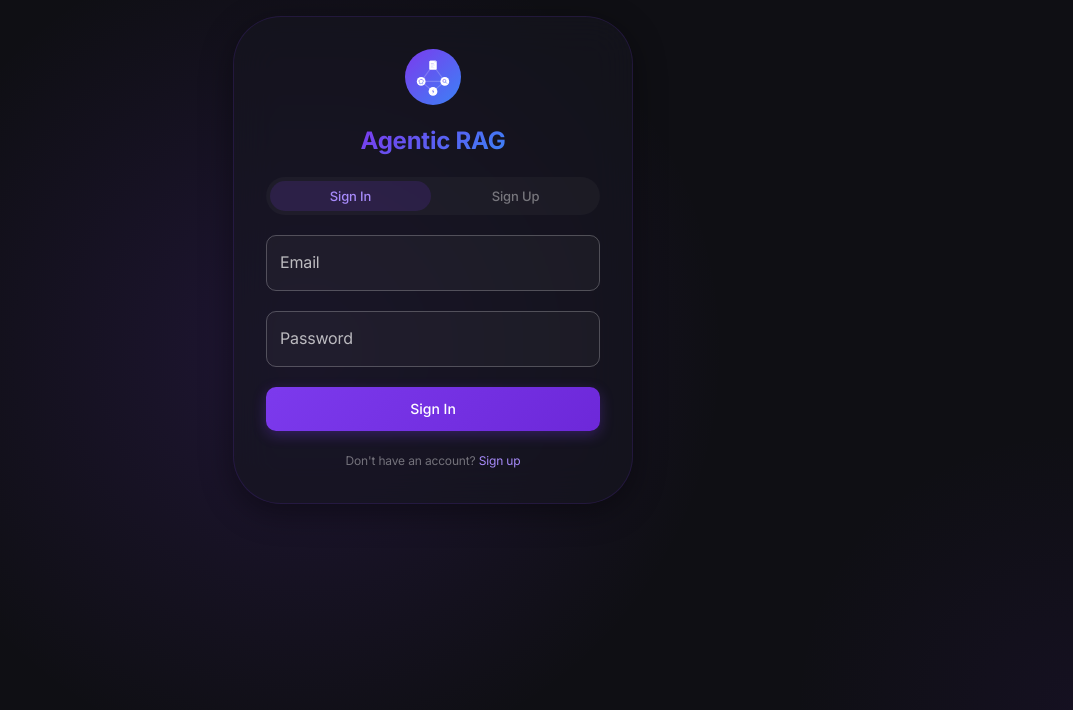
Test: LoginPage › toggles to sign up form
The image size is (1073, 710).
Click the text "Sign up" at point(500, 461), box [479,453,520,468]
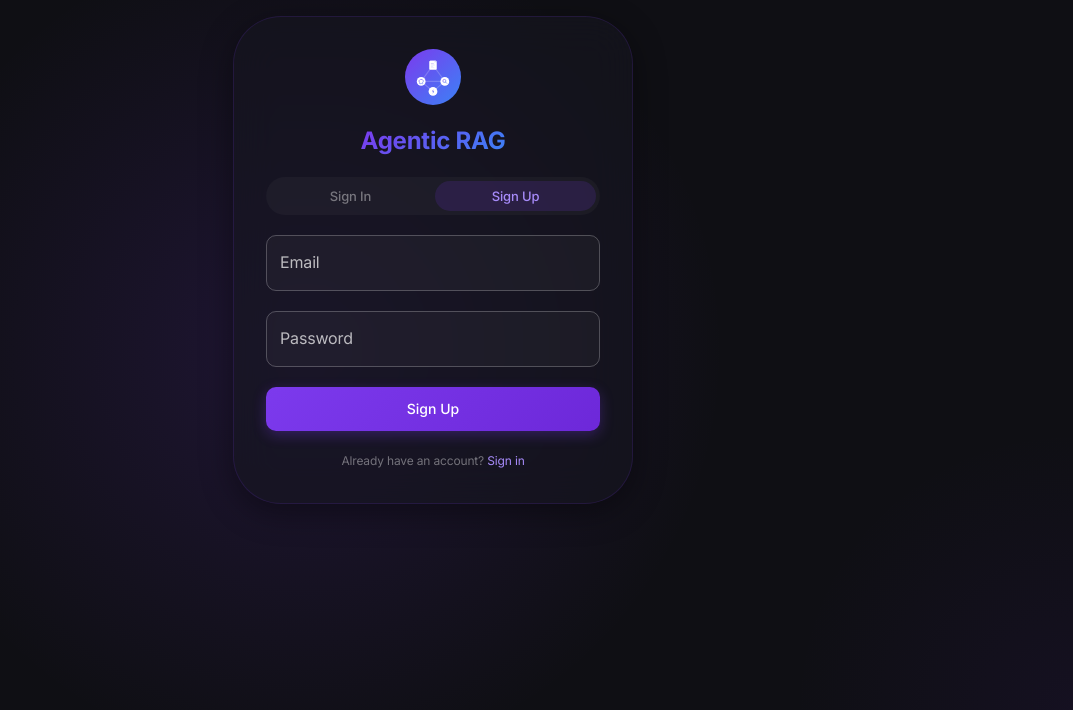
Expected: the button "Sign Up" is shown, [266,387,600,431]
